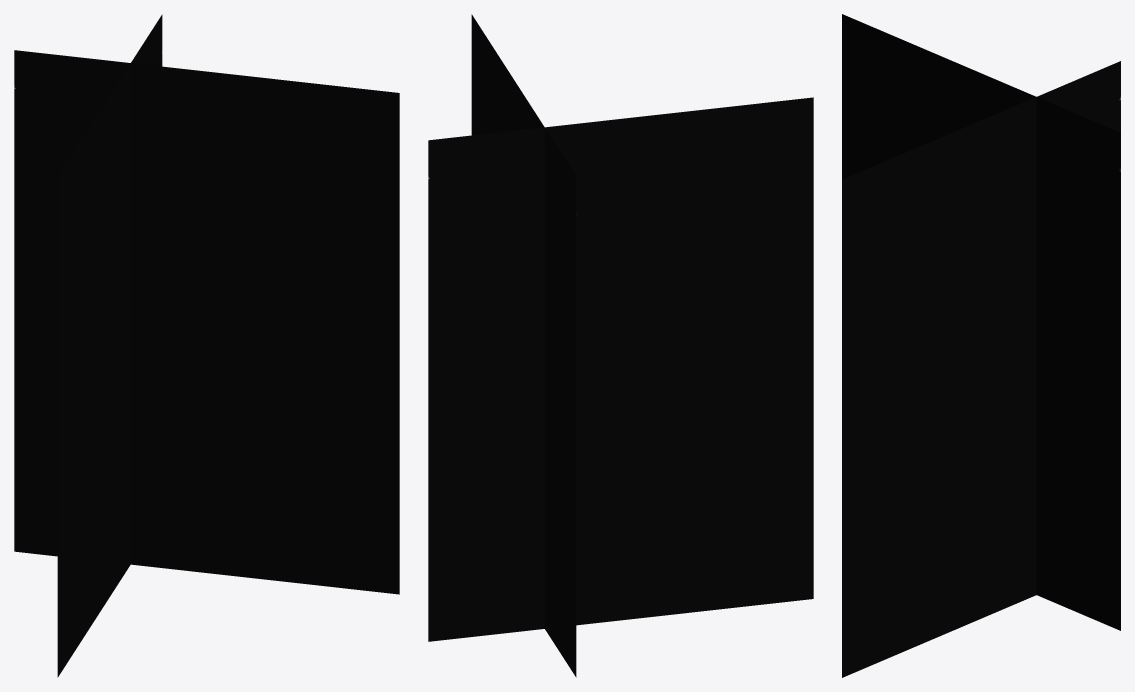
File: tannenzweig 0 LD.fbx
The picture shows the model from 3 angles, left to right: view 1: azimuth 30°, elevation 25°; view 2: azimuth 150°, elevation 25°; view 3: azimuth 270°, elevation 25°; orthographic projection.
Visible parts, largest first — view 1: Plane; view 2: Plane; view 3: Plane.
Boxes of the visible parts, <box> form: Plane: <box>14,14,399,677</box>; Plane: <box>428,14,813,677</box>; Plane: <box>842,14,1120,677</box>.
Size of the model in its own units: 4.03 by 5.65 by 2.87.
Materials: 1 (1 with a texture image).
